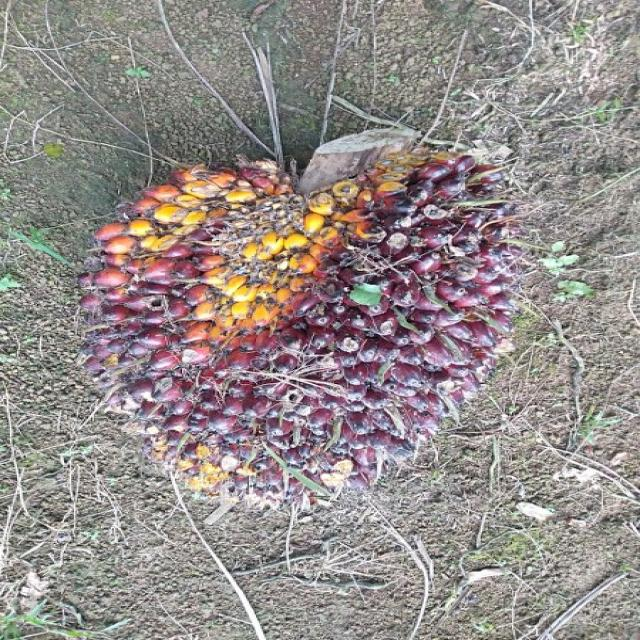fraksi 1: (59, 116, 585, 538)
